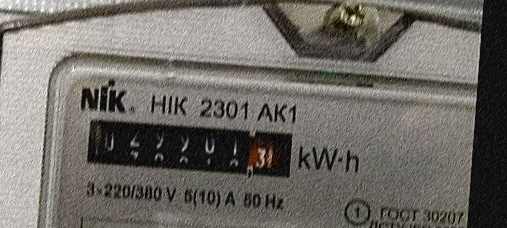0: (201, 130, 218, 156), (100, 128, 117, 151)
1: (228, 132, 242, 157)
2: (126, 125, 143, 148)
3: (252, 145, 269, 170)
9: (177, 130, 191, 154), (152, 127, 166, 149)
screen: (77, 110, 302, 188)
